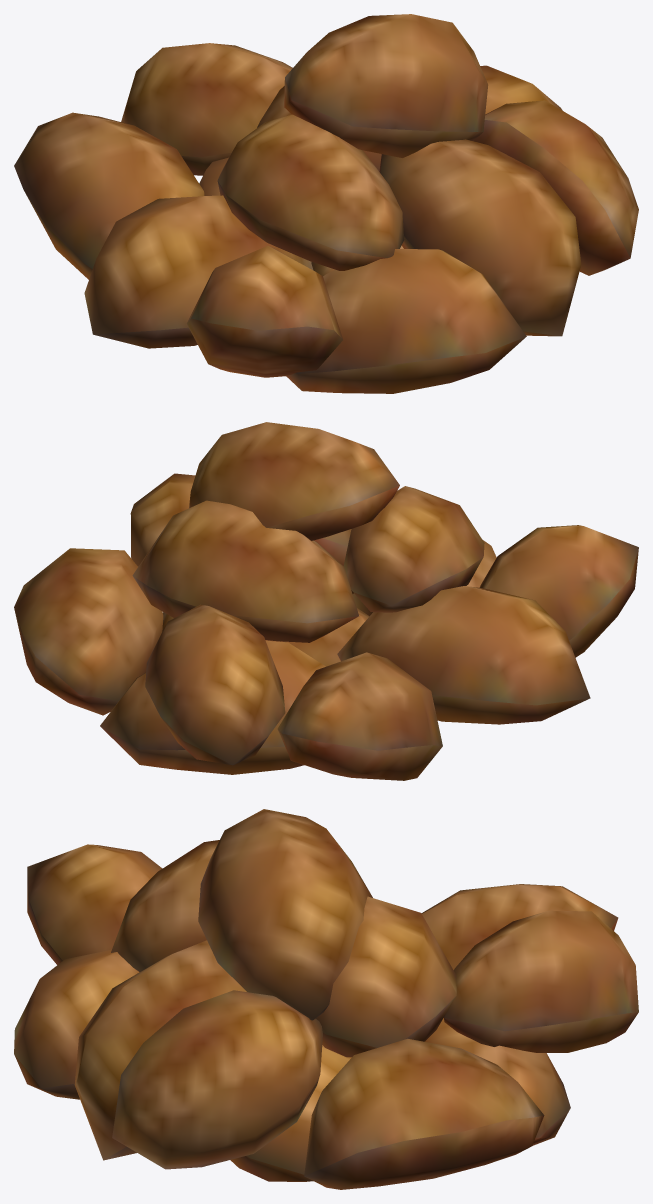
Rendered from SM_CakeSet_5f898c.glb.
3 views of the same model, one above another, from view 1: azimuth 30°, elevation 25°; view 2: azimuth 150°, elevation 25°; view 3: azimuth 270°, elevation 25° (orthographic). The views are drawn at different scales.
Size of the model in its own units: 0.3827 by 0.1955 by 0.3678.
Materials: 1 (1 with a texture image).
